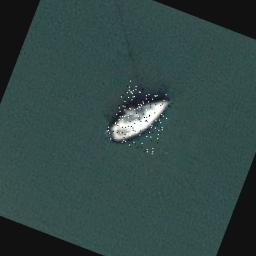boat: (104, 80, 175, 156)
